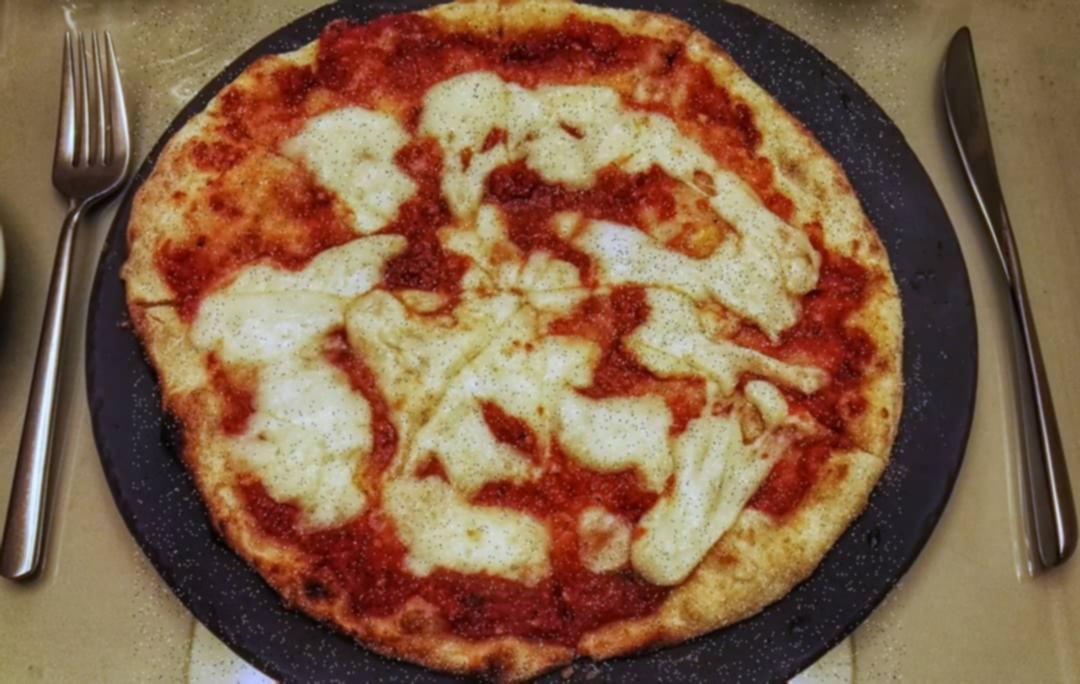Cheese: (612, 242, 796, 371), (372, 296, 545, 431), (224, 286, 357, 460), (586, 416, 745, 528), (439, 86, 608, 166), (416, 498, 524, 578), (308, 126, 386, 200)
Pizza: (133, 5, 905, 684)
